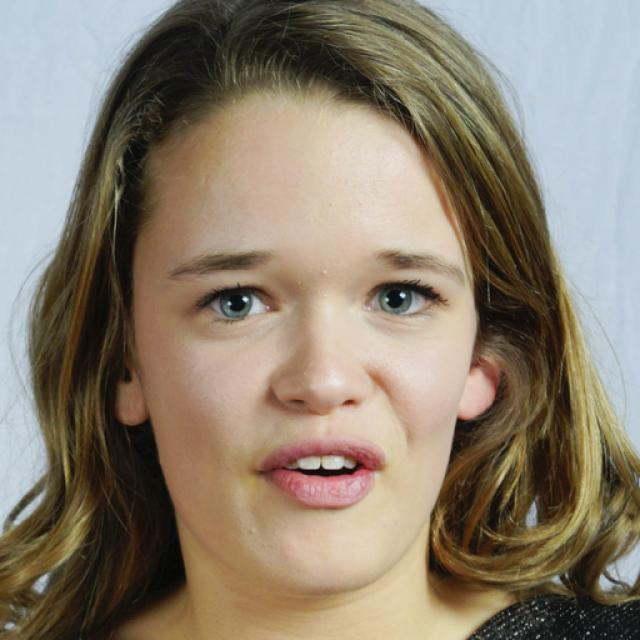Acne: (310, 258, 335, 288)
